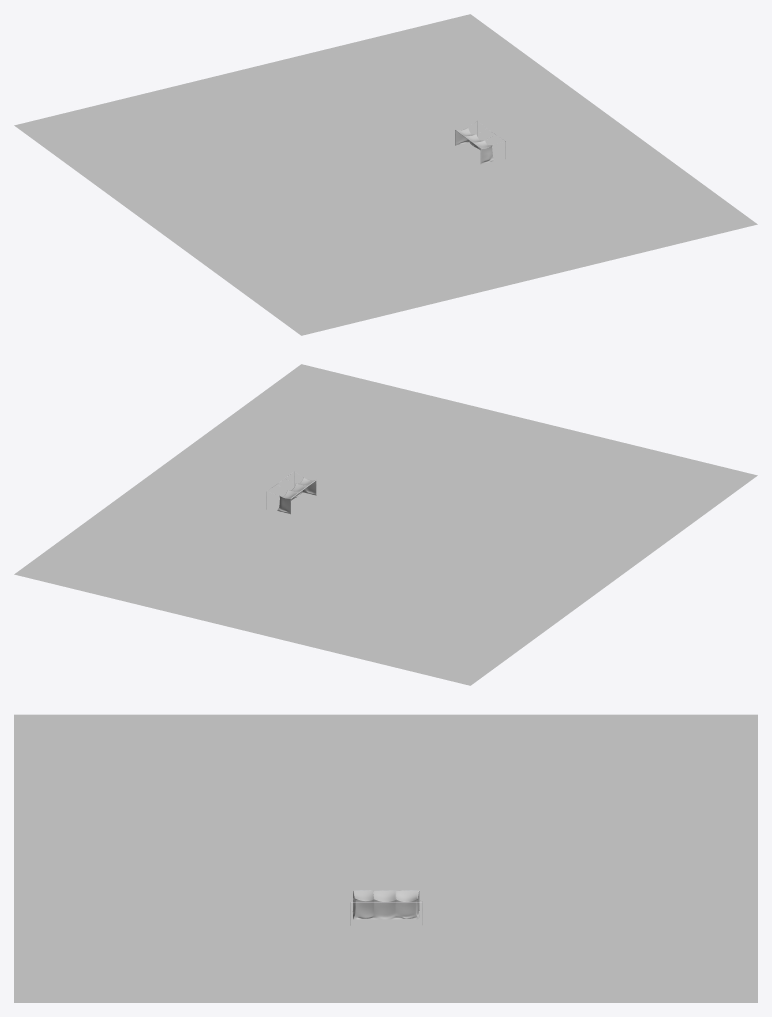
File: footballCourt.FBX
The picture shows the model from 3 angles, top to bottom: view 1: azimuth 30°, elevation 25°; view 2: azimuth 150°, elevation 25°; view 3: azimuth 270°, elevation 25°; orthographic projection. The views are drawn at different scales.
Visible parts, largest first — view 1: Cesped, Red; view 2: Cesped, Red; view 3: Cesped, Red.
Boxes of the visible parts, x1,y1,x2,y2 form: Cesped: [14, 14, 757, 335]; Red: [455, 128, 494, 163]; Cesped: [14, 364, 757, 685]; Red: [277, 477, 315, 513]; Cesped: [14, 714, 757, 1002]; Red: [352, 891, 419, 919].
Bounding box in the file's own units: 7730 × 294 × 8413.
